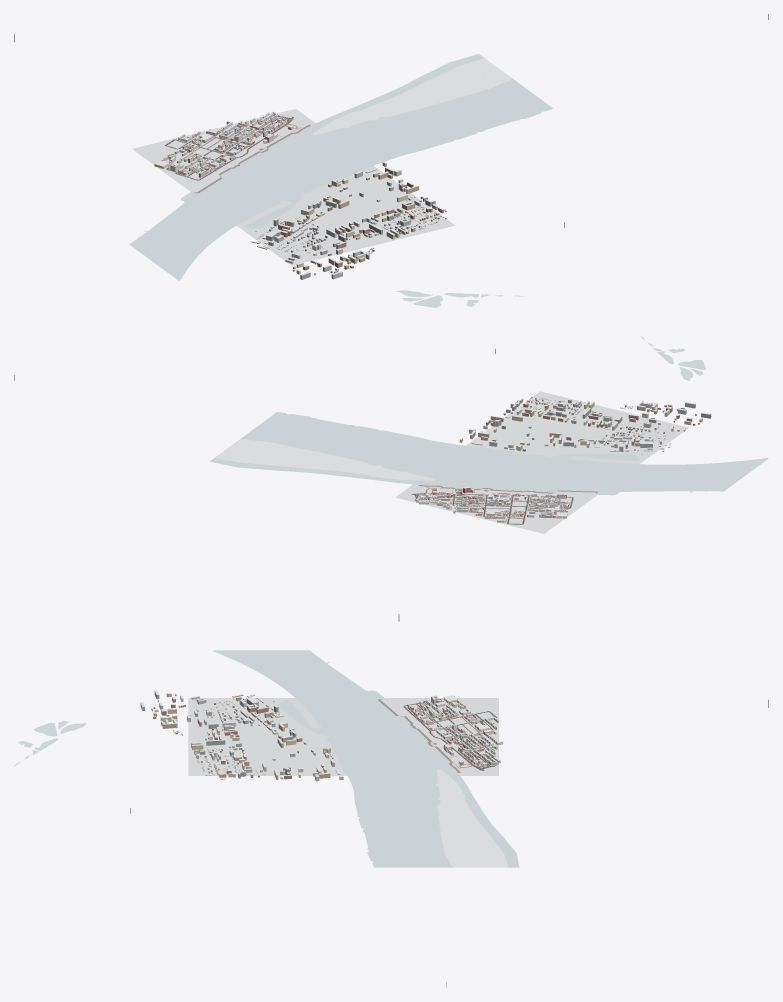
The model's file is city.gltf.
3 renders of one model, top to bottom at view 1: azimuth 30°, elevation 25°; view 2: azimuth 150°, elevation 25°; view 3: azimuth 270°, elevation 25°, orthographic. The views are drawn at different scales.
Visible parts, largest first — view 1: Ice, Ground, Snow, Facade, Glass; view 2: Ice, Ground, Snow, Facade, Glass; view 3: Ice, Ground, Snow, Facade, Glass.
Part boxes in pixels (left/top/right/bottom): Ice: left=129, top=54, right=553, bottom=307; Ground: left=132, top=109, right=454, bottom=265; Snow: left=155, top=58, right=511, bottom=275; Facade: left=154, top=112, right=447, bottom=279; Glass: left=163, top=113, right=293, bottom=176; Ice: left=209, top=336, right=768, bottom=495; Ground: left=395, top=391, right=688, bottom=533; Snow: left=215, top=396, right=710, bottom=522; Facade: left=416, top=397, right=711, bottom=522; Glass: left=418, top=489, right=569, bottom=522; Ice: left=14, top=650, right=519, bottom=867; Ground: left=188, top=698, right=498, bottom=775; Snow: left=141, top=690, right=508, bottom=867; Facade: left=140, top=691, right=503, bottom=781; Glass: left=407, top=697, right=498, bottom=766.
Size of the model in its own units: 6183 by 70 by 5852.
